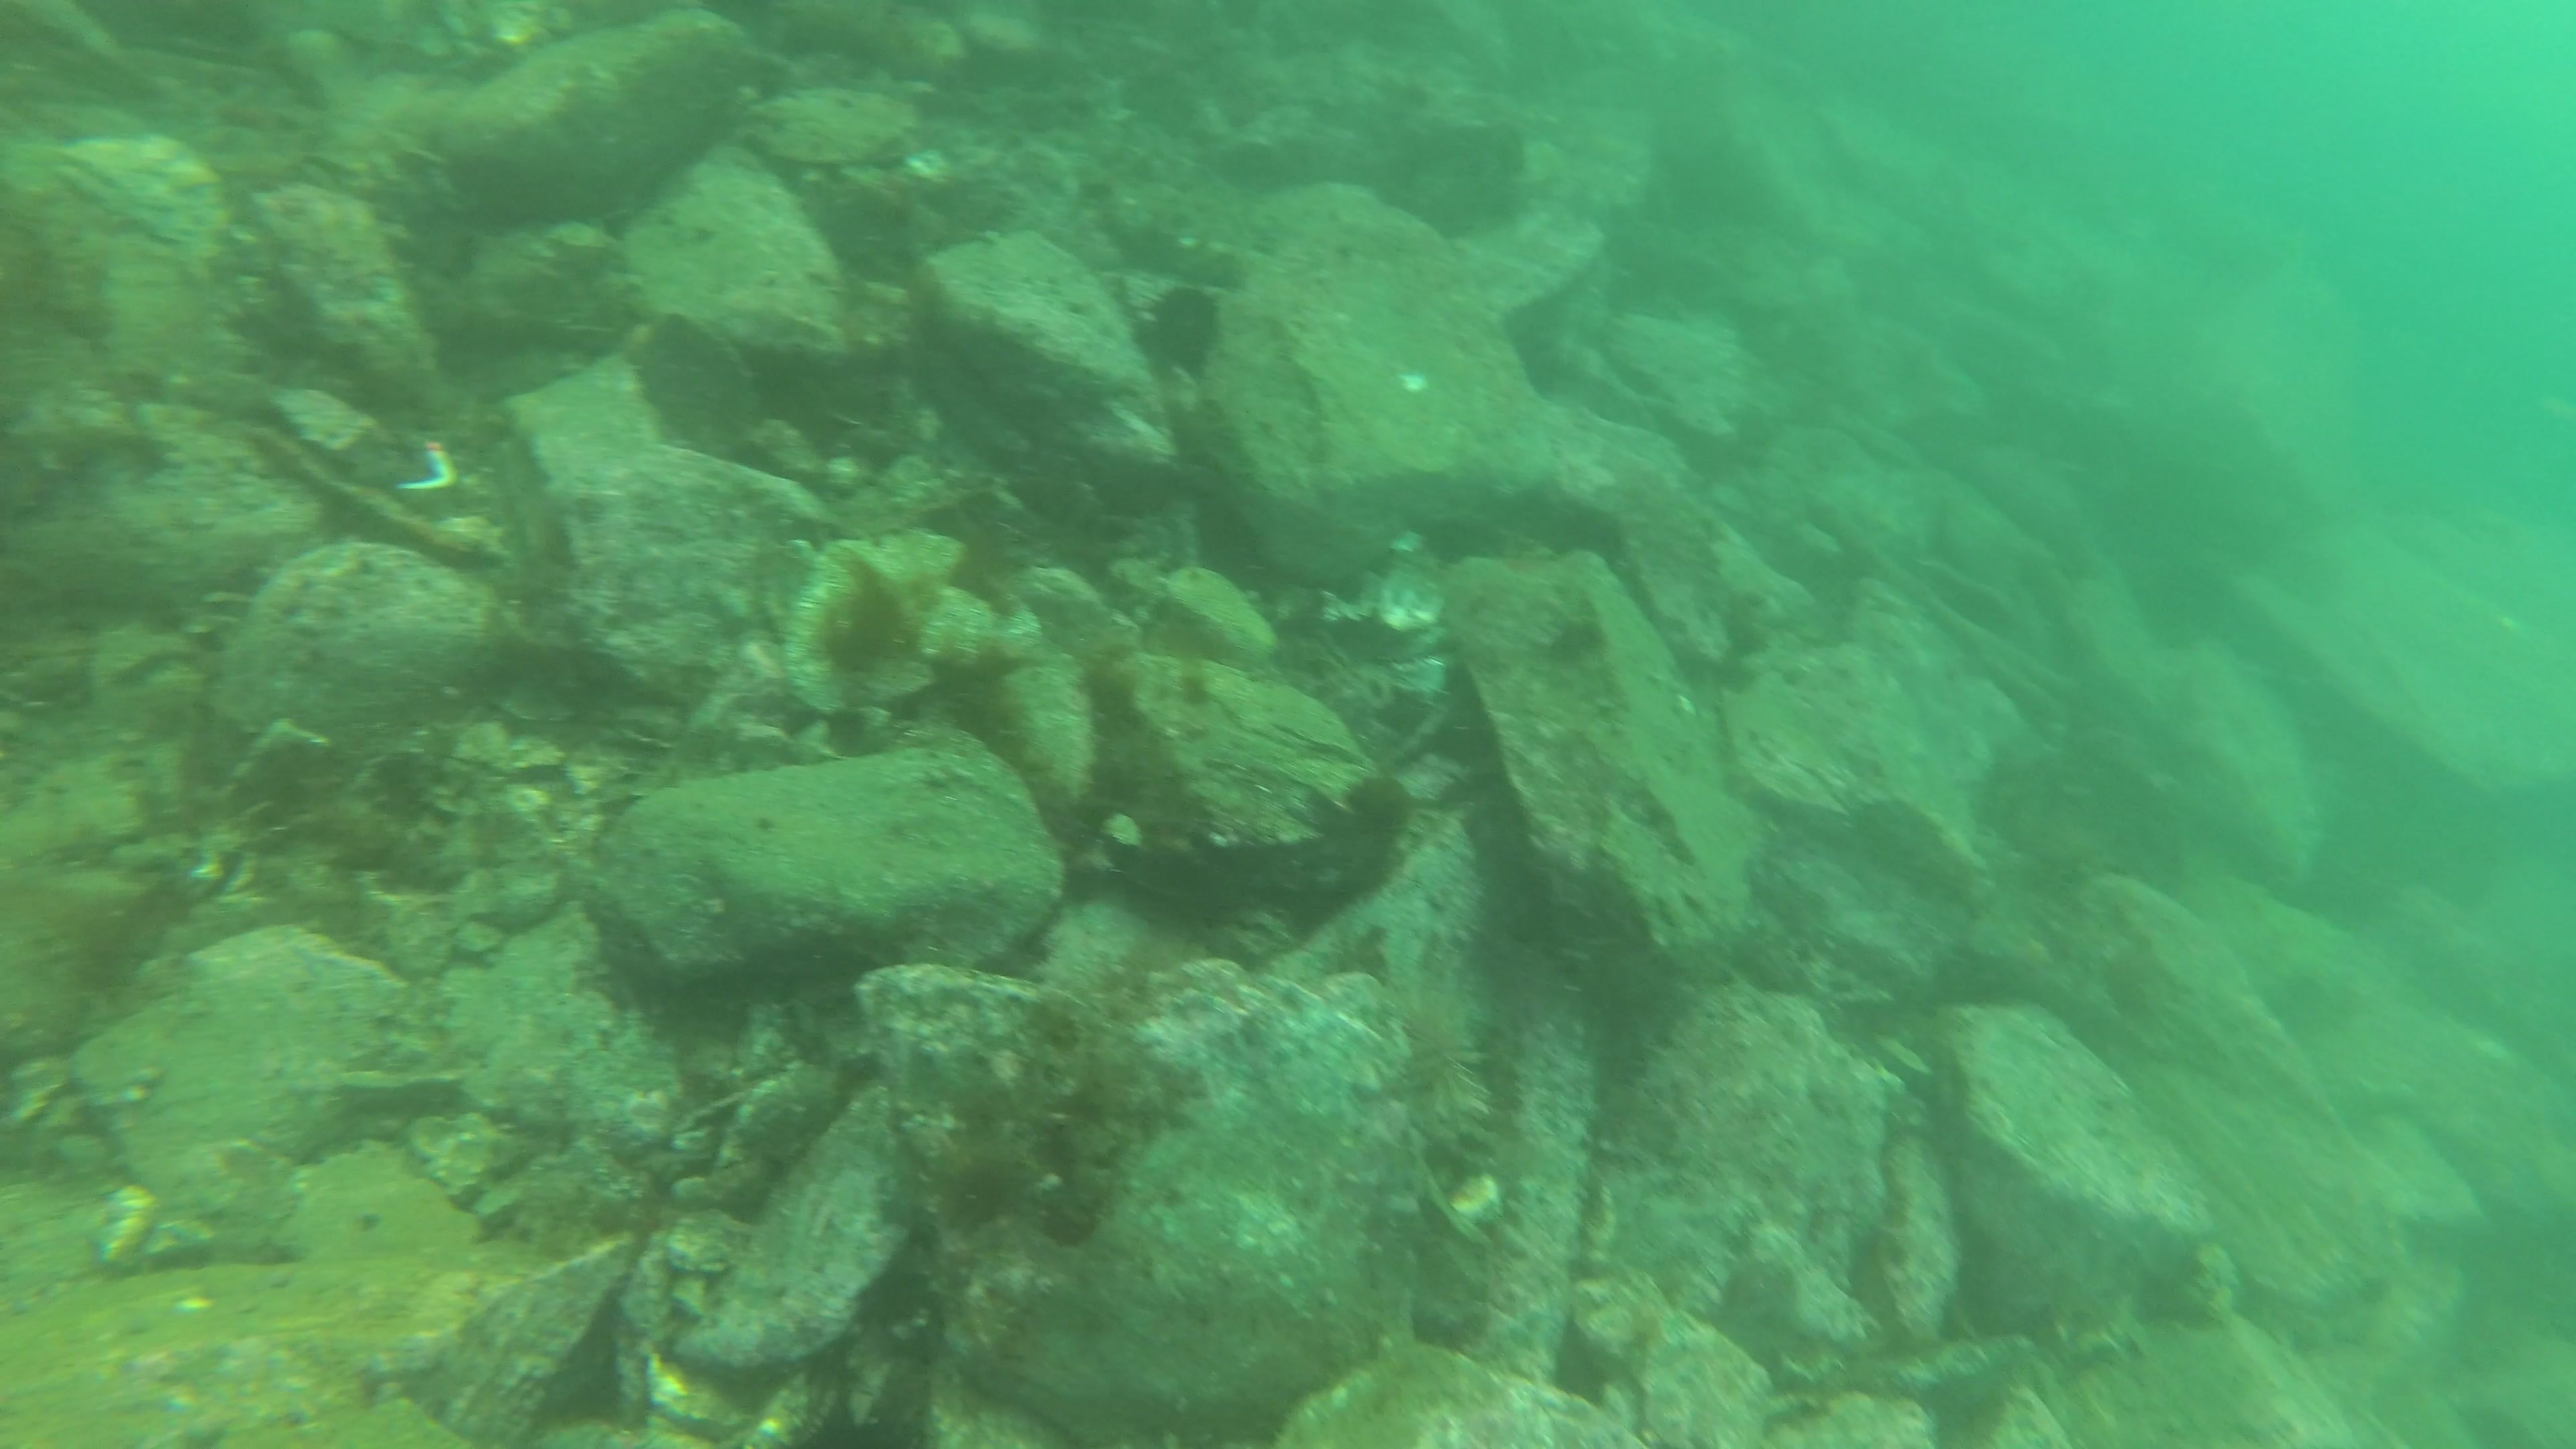echinus: (1382, 966, 1504, 1173), (1131, 278, 1231, 382)
